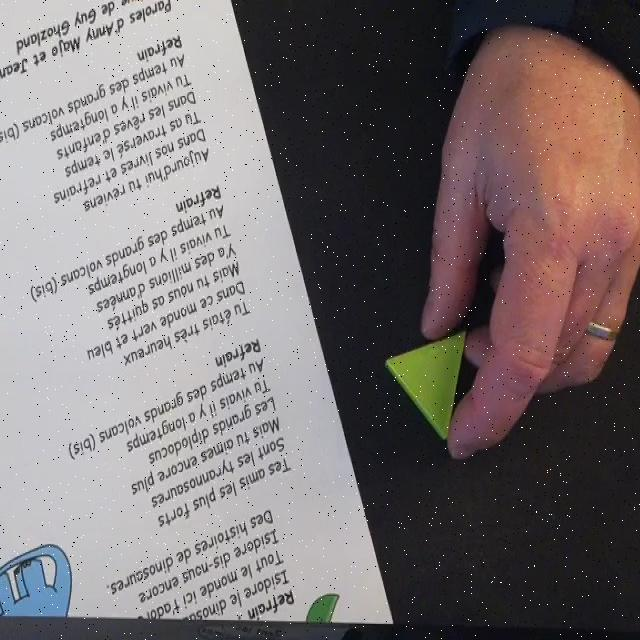triangle: (384, 329, 471, 443)
